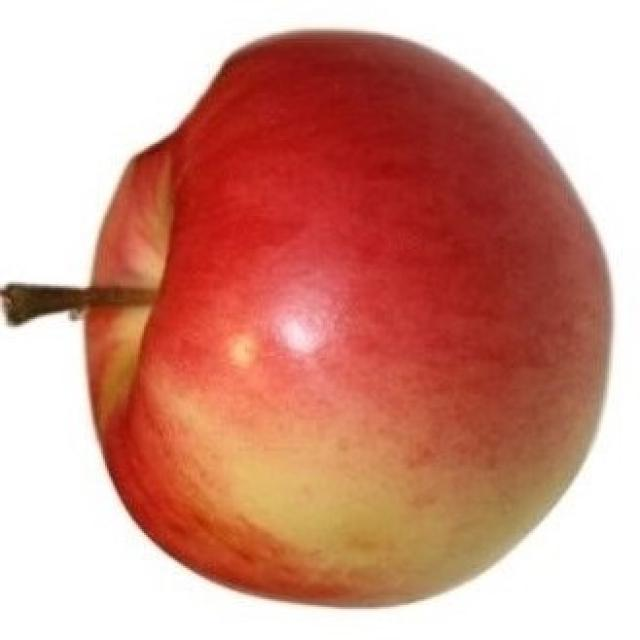75-_ripeness: (84, 27, 610, 606)
